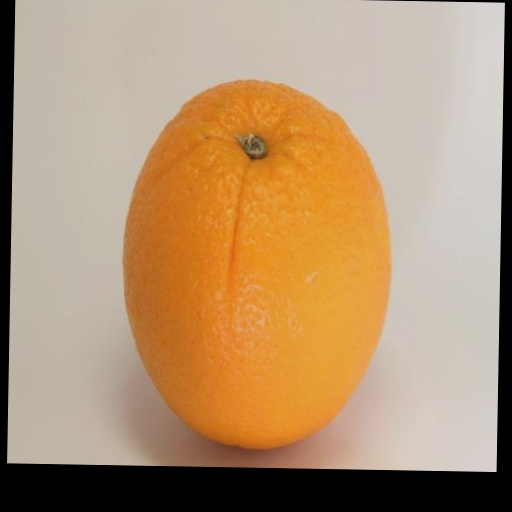fruit: (124, 81, 389, 448)
